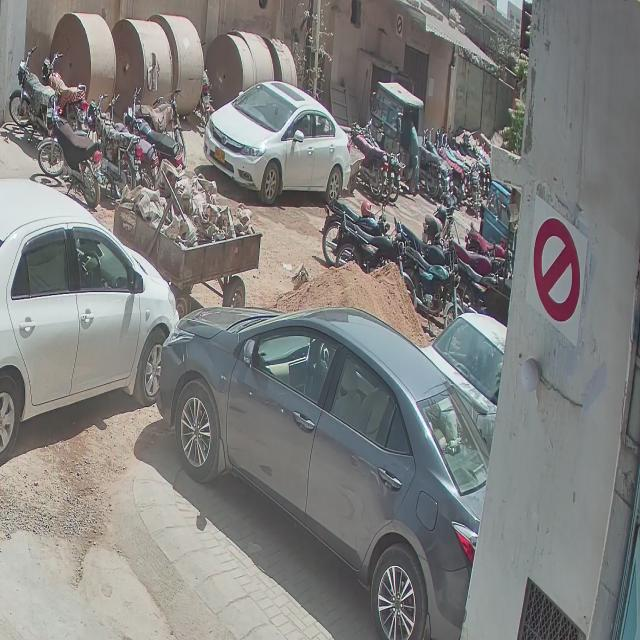bike: (38, 85, 106, 208), (86, 94, 142, 198), (8, 45, 61, 142), (322, 194, 386, 271), (110, 93, 159, 190), (123, 87, 182, 167), (332, 210, 404, 274), (404, 240, 462, 314), (135, 89, 187, 168), (42, 51, 88, 132), (350, 122, 388, 199), (399, 219, 454, 270), (465, 227, 513, 278), (458, 257, 500, 314), (452, 242, 497, 276), (422, 206, 455, 248), (419, 145, 441, 198), (391, 153, 406, 203), (382, 153, 395, 202)
car: (157, 306, 490, 640), (0, 178, 177, 472), (204, 81, 351, 203), (423, 315, 504, 440)
